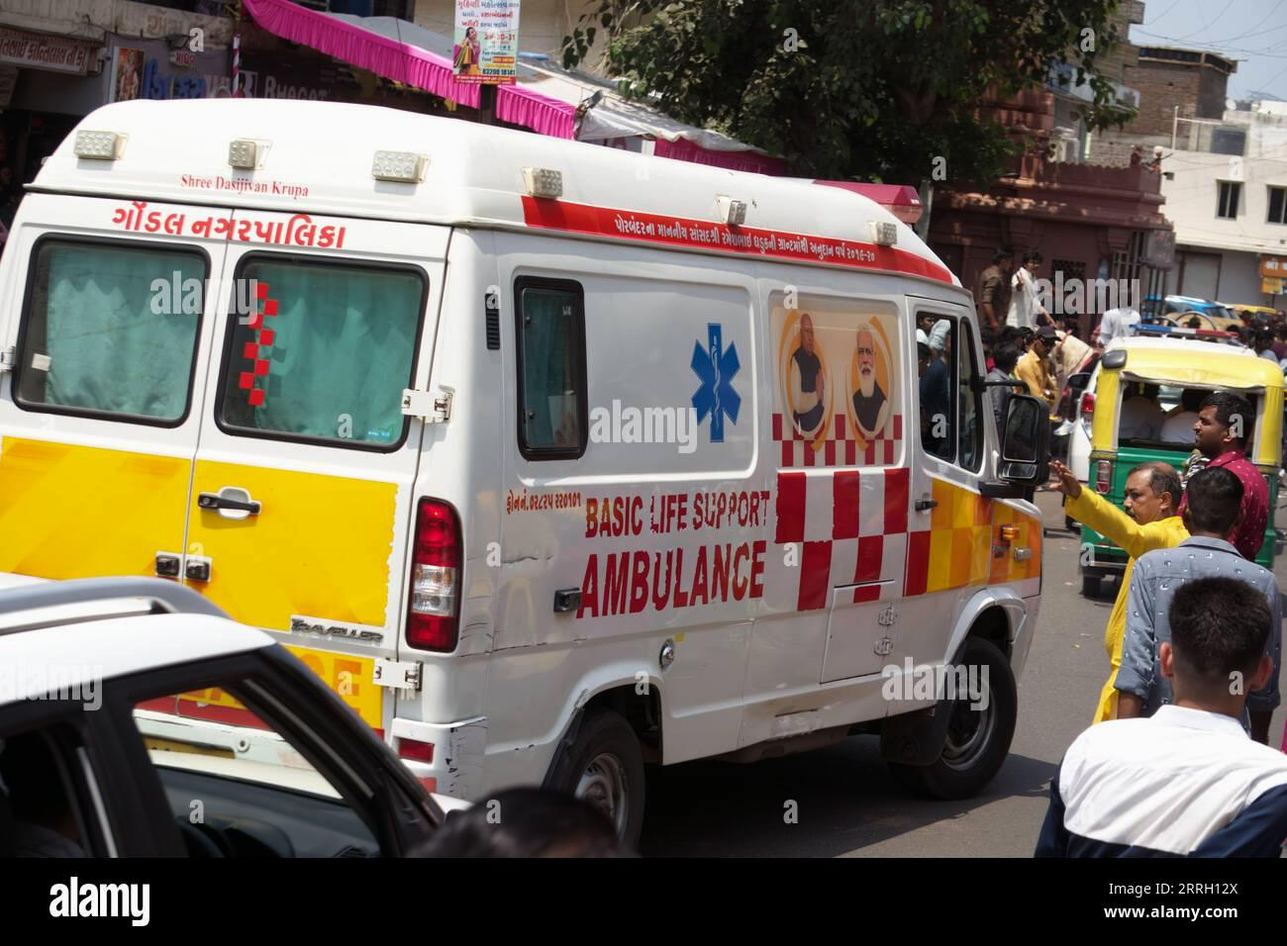ambulance: (503, 391, 846, 719)
